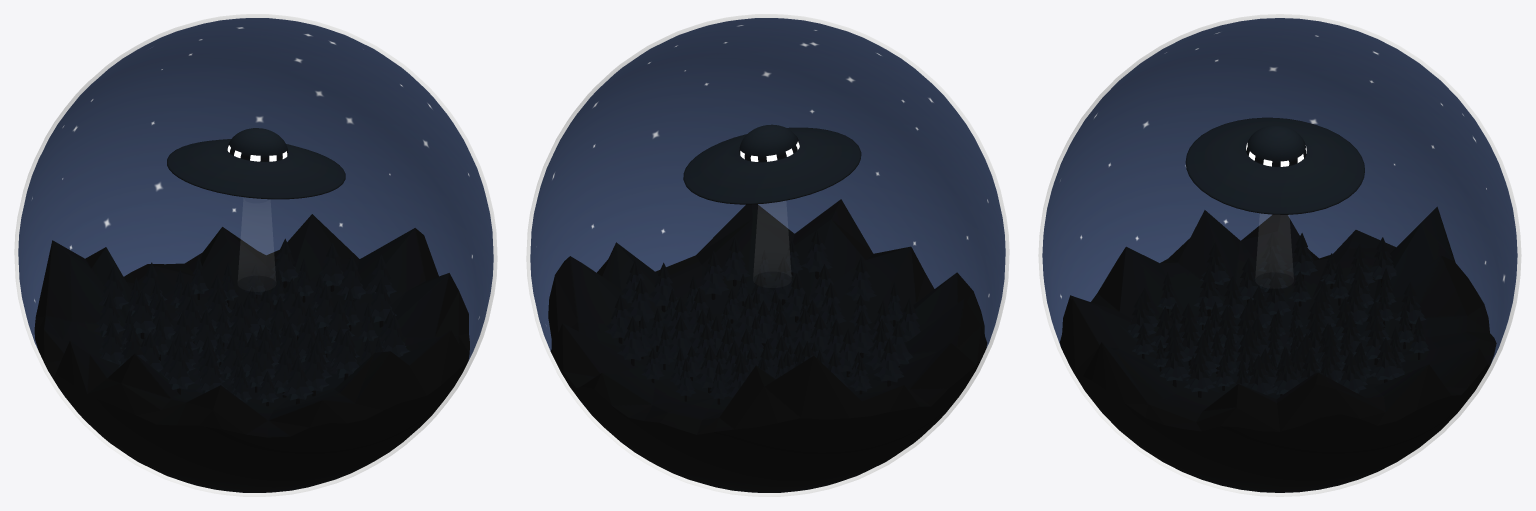
The picture shows the model from 3 angles, left to right: view 1: azimuth 30°, elevation 25°; view 2: azimuth 150°, elevation 25°; view 3: azimuth 270°, elevation 25°; orthographic projection.
Parts seen in each view (by area): view 1: Sky, Mountains, UFO, Globe, Tree_L.076, Tree_L.075, Tree_L.078, Tree_L.088, Tree_L.050, Tree_L.071, Tree_L.072, Tree_L.089 (+11 smaller); view 2: Sky, Mountains, UFO, Globe, Tree_L.089, Tree_L.083, Tree_L.073, Tree_L.086, Tree_L.075, Tree_L.076, Tree_L.071, Tree_L.088 (+8 smaller); view 3: Sky, Mountains, UFO, Globe, Tree_L.086, Tree_L.073, Tree_L.089, Tree_L.083, Tree_L.081, Tree_L.062, Tree_L.035, Tree_L.087 (+9 smaller).
Part boxes in pixels (<box>): Sky: <box>18,18,493,361</box>; Mountains: <box>34,214,469,492</box>; UFO: <box>167,128,345,199</box>; Globe: <box>14,14,497,496</box>; Tree_L.076: <box>282,356,313,404</box>; Tree_L.075: <box>331,331,359,380</box>; Tree_L.078: <box>165,346,194,394</box>; Tree_L.088: <box>317,243,344,291</box>; Tree_L.050: <box>132,290,156,339</box>; Tree_L.071: <box>336,255,366,301</box>; Tree_L.072: <box>369,278,396,327</box>; Tree_L.089: <box>269,238,298,288</box>; Sky: <box>530,18,1005,350</box>; Mountains: <box>548,199,987,492</box>; UFO: <box>683,124,861,204</box>; Globe: <box>526,14,1009,496</box>; Tree_L.089: <box>617,316,647,366</box>; Tree_L.083: <box>874,337,904,386</box>; Tree_L.073: <box>698,251,728,299</box>; Tree_L.086: <box>721,237,750,286</box>; Tree_L.075: <box>801,229,832,279</box>; Tree_L.076: <box>845,257,876,301</box>; Tree_L.071: <box>626,278,654,324</box>; Tree_L.088: <box>604,295,630,343</box>; Sky: <box>1042,18,1517,363</box>; Mountains: <box>1060,206,1496,492</box>; UFO: <box>1185,117,1364,214</box>; Globe: <box>1038,14,1521,496</box>; Tree_L.086: <box>1159,338,1190,387</box>; Tree_L.073: <box>1184,349,1215,397</box>; Tree_L.089: <box>1370,337,1401,382</box>; Tree_L.083: <box>1286,233,1317,278</box>; Tree_L.081: <box>1367,237,1396,286</box>; Tree_L.062: <box>1193,268,1222,316</box>; Tree_L.035: <box>1265,272,1290,318</box>; Tree_L.087: <box>1272,351,1299,393</box>.
Bounding box in the file's own units: 20.33 × 20.33 × 20.33.
7 materials, 6 textured.
